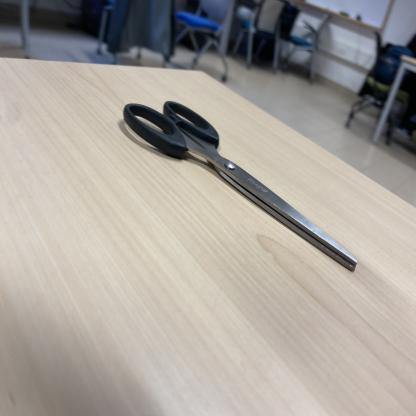scissors: (122, 101, 358, 275)
